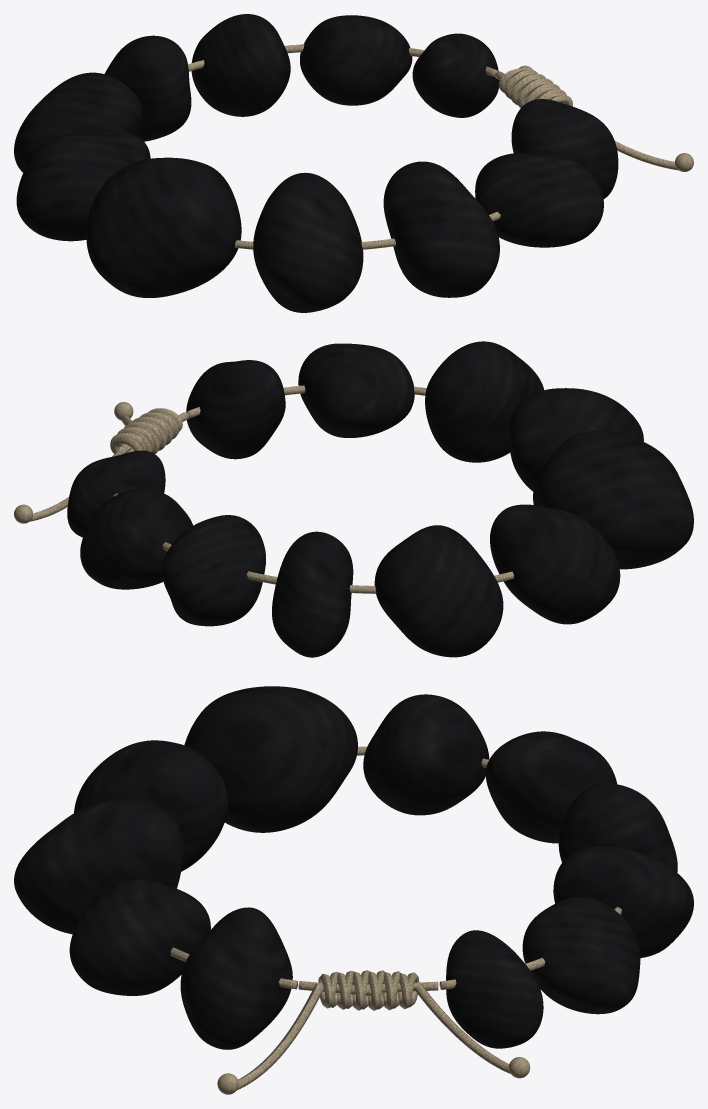
File: obsydian.glb
3 renders of one model, top to bottom at view 1: azimuth 30°, elevation 25°; view 2: azimuth 150°, elevation 25°; view 3: azimuth 270°, elevation 25°, orthographic. The views are drawn at different scales.
Parts seen in each view (by area): view 1: bead_pebble_1.001, bead_pebble_2.001, bead_pebble_3.001, bead_pebble_4.001, bead_pebble_0.001, bead_pebble_1, bead_pebble_2, bead_pebble_4, bead_pebble_3, bead_pebble_0.002, bead_pebble_0, nic.019 (+1 smaller); view 2: bead_pebble_1.001, bead_pebble_4, bead_pebble_0.001, bead_pebble_3.001, bead_pebble_2, bead_pebble_4.001, bead_pebble_3, bead_pebble_1, bead_pebble_0.002, bead_pebble_2.001, bead_pebble_0, nic.019; view 3: bead_pebble_1.001, bead_pebble_3.001, bead_pebble_4.001, bead_pebble_0.002, bead_pebble_0.001, bead_pebble_1, bead_pebble_2.001, bead_pebble_4, bead_pebble_2, bead_pebble_0, bead_pebble_3, koncowka.039 (+2 smaller).
Boxes of the visible parts, x1,y1,x2,y2 form: bead_pebble_1.001: (86, 157, 241, 297); bead_pebble_2.001: (253, 172, 363, 312); bead_pebble_3.001: (383, 161, 499, 297); bead_pebble_4.001: (475, 152, 603, 247); bead_pebble_0.001: (16, 132, 150, 241); bead_pebble_1: (300, 15, 412, 105); bead_pebble_2: (191, 14, 290, 116); bead_pebble_4: (14, 72, 141, 172); bead_pebble_3: (104, 35, 191, 141); bead_pebble_0.002: (511, 99, 618, 198); bead_pebble_0: (412, 33, 499, 117); nic.019: (188, 44, 500, 249); bead_pebble_1.001: (533, 430, 693, 569); bead_pebble_4: (374, 525, 503, 657); bead_pebble_0.001: (490, 504, 620, 624); bead_pebble_3.001: (425, 341, 543, 462); bead_pebble_2: (162, 515, 265, 626); bead_pebble_4.001: (298, 343, 414, 437); bead_pebble_3: (272, 531, 353, 657); bead_pebble_1: (80, 489, 192, 589); bead_pebble_0.002: (186, 360, 285, 459); bead_pebble_2.001: (509, 388, 643, 491); bead_pebble_0: (67, 450, 165, 537); nic.019: (113, 385, 513, 593); bead_pebble_1.001: (184, 686, 357, 832); bead_pebble_3.001: (14, 799, 183, 934); bead_pebble_4.001: (69, 879, 210, 995); bead_pebble_0.002: (180, 907, 292, 1049); bead_pebble_0.001: (363, 694, 489, 815); bead_pebble_1: (522, 897, 640, 1014); bead_pebble_2.001: (74, 740, 227, 871); bead_pebble_4: (485, 731, 617, 843); bead_pebble_2: (553, 846, 693, 957); bead_pebble_0: (446, 930, 543, 1048); bead_pebble_3: (558, 783, 677, 872); koncowka.039: (237, 984, 323, 1090).
Bounding box in the file's own units: 7.79 × 1.54 × 6.99.
4 materials, 4 textured.
